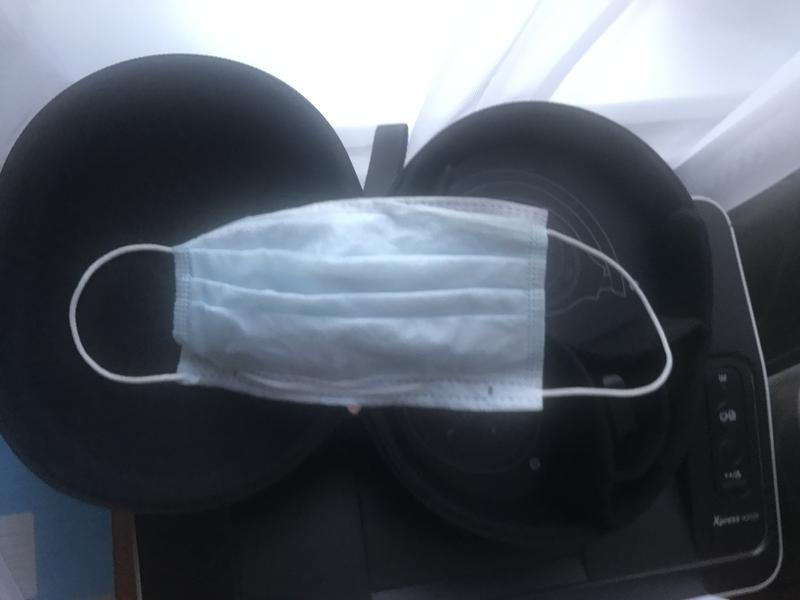medical_mask: (69, 194, 672, 414)
